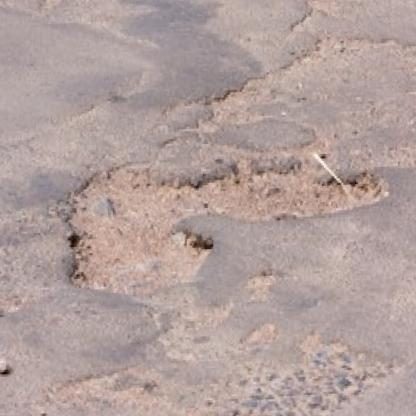pothole: (65, 160, 381, 291)
